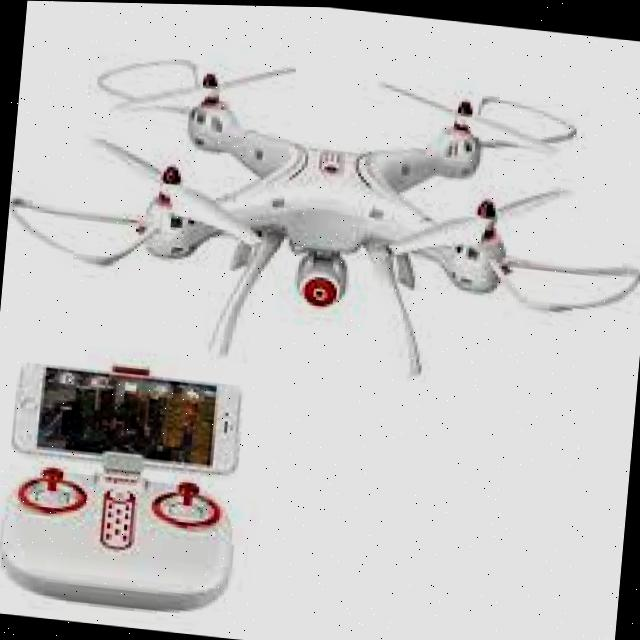drone: (0, 21, 640, 399)
